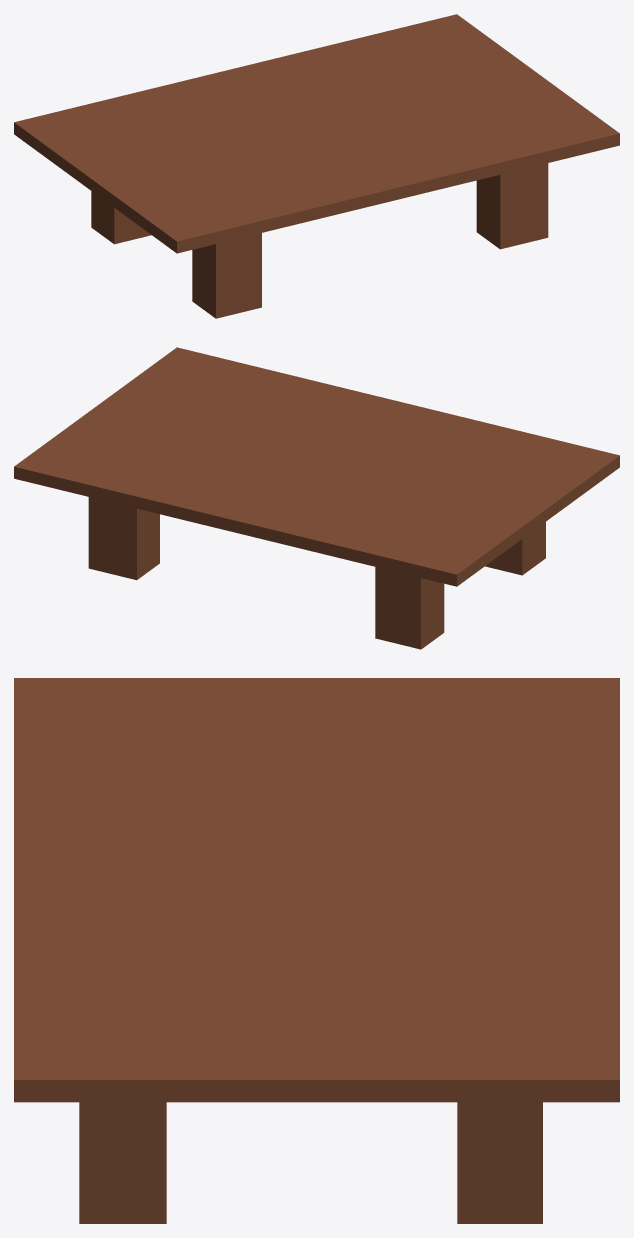
The model's file is Table.glb.
3 views of the same model, one above another, from view 1: azimuth 30°, elevation 25°; view 2: azimuth 150°, elevation 25°; view 3: azimuth 270°, elevation 25° (orthographic). The views are drawn at different scales.
Parts seen in each view (by area): view 1: Cube; view 2: Cube; view 3: Cube.
Boxes of the visible parts, x1,y1,x2,y2 form: Cube: (14, 14, 619, 318); Cube: (14, 347, 619, 649); Cube: (14, 678, 619, 1223).
Bounding box in the file's own units: 4.35 × 0.9741 × 2.77.
Materials: 1 (1 with a texture image).
